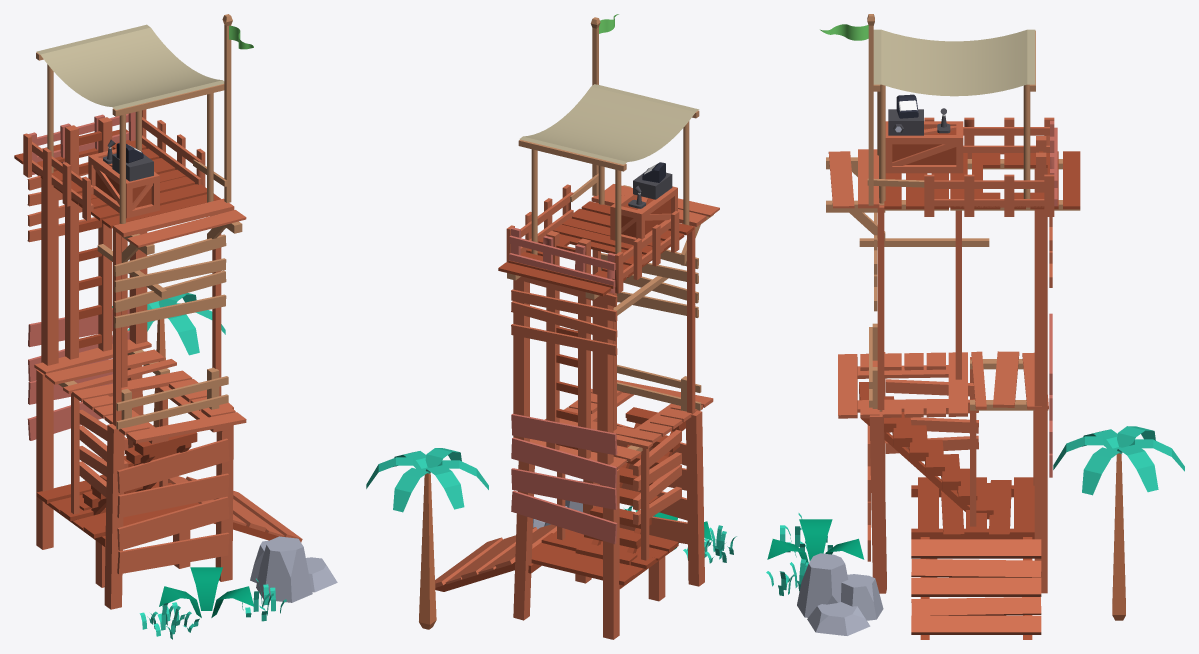
The model's file is Radio Tower.fbx.
The picture shows the model from 3 angles, left to right: view 1: azimuth 30°, elevation 25°; view 2: azimuth 150°, elevation 25°; view 3: azimuth 270°, elevation 25°; orthographic projection. The views are drawn at different scales.
Parts seen in each view (by area): view 1: mergedBlocks; view 2: mergedBlocks; view 3: mergedBlocks.
Boxes of the visible parts, x1,y1,x2,y2 form: mergedBlocks: [14, 14, 337, 639]; mergedBlocks: [366, 14, 736, 639]; mergedBlocks: [766, 14, 1184, 639].
Size of the model in its own units: 20.18 by 49.17 by 32.26.
